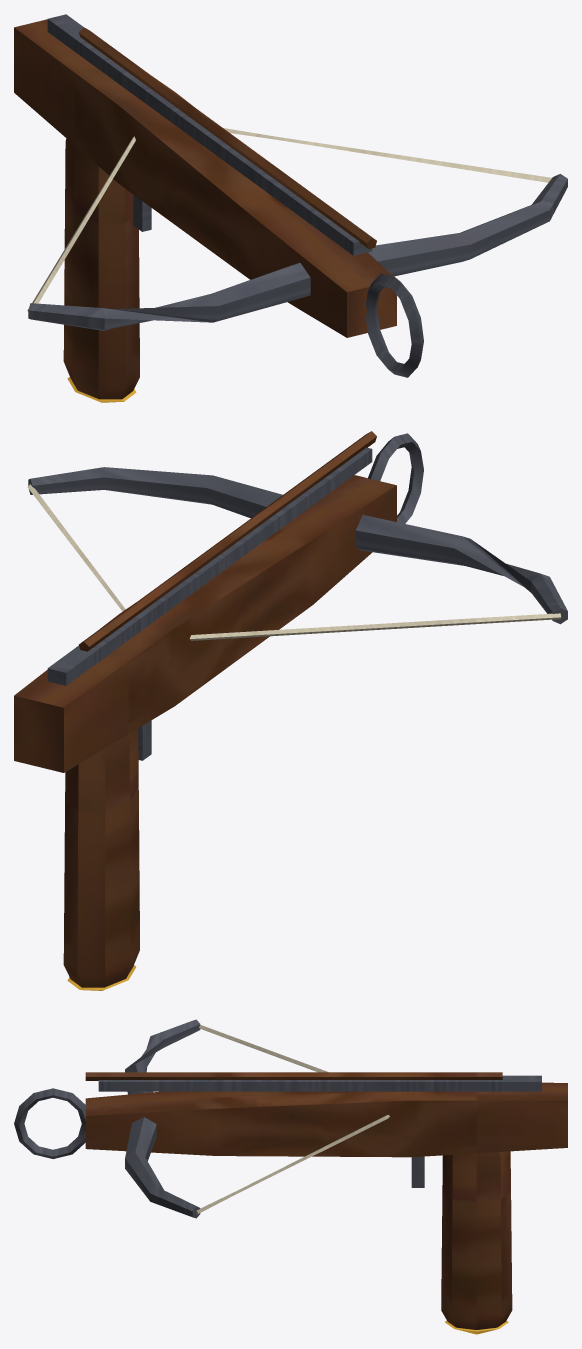
The model's file is hand_crossbow.glb.
3 views of the same model, one above another, from view 1: azimuth 30°, elevation 25°; view 2: azimuth 150°, elevation 25°; view 3: azimuth 270°, elevation 25° (orthographic). The views are drawn at different scales.
Parts seen in each view (by area): view 1: hand_crossbow; view 2: hand_crossbow; view 3: hand_crossbow.
Part boxes in pixels (x1=…): hand_crossbow: x1=14, y1=14, x2=567, y2=402; hand_crossbow: x1=14, y1=431, x2=567, y2=990; hand_crossbow: x1=14, y1=1019, x2=567, y2=1334.
Size of the model in its own units: 0.3461 by 0.2215 by 0.425.
4 materials, 4 textured.
